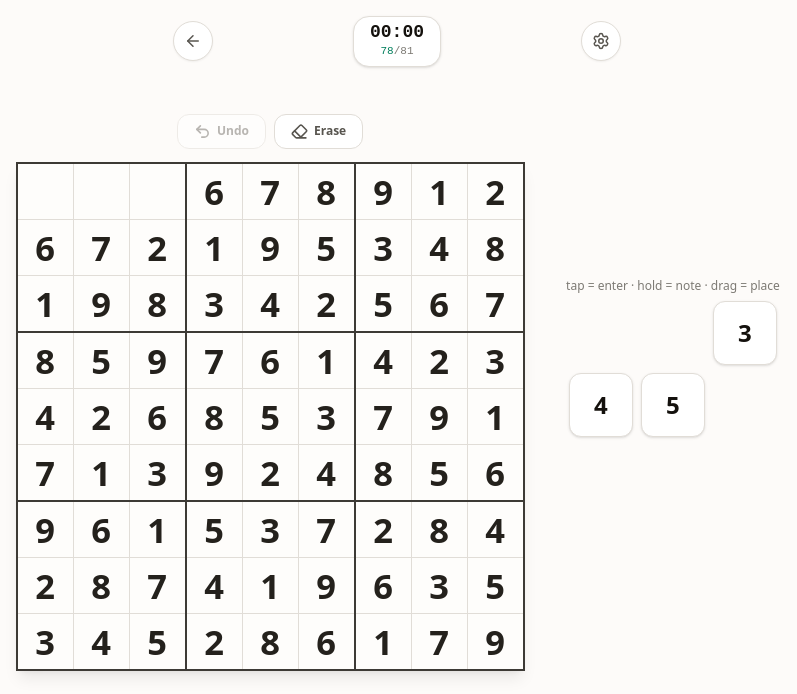
Scenario: MultiplayerBoard local autosave › enables the undo button after a move and reverts the change on click
Check: the button labelled "Undo" is disabled, box [177,114,266,149]
Click the cell named "Cell row 1 column 1, empty". click: (45, 192)
box: [18,164,73,219]
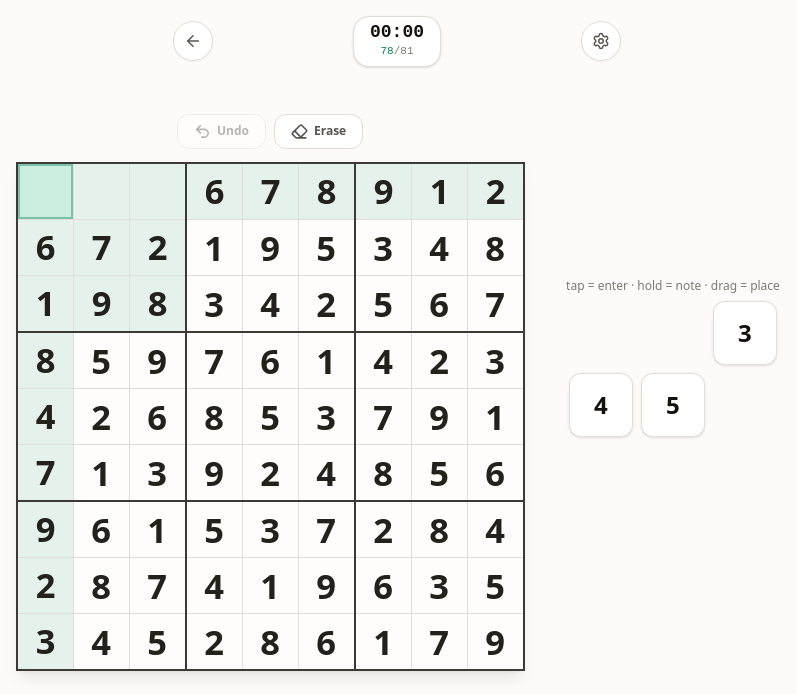
Press the mouse on the button labelled "5" at (673, 405), box [641,373,705,437]
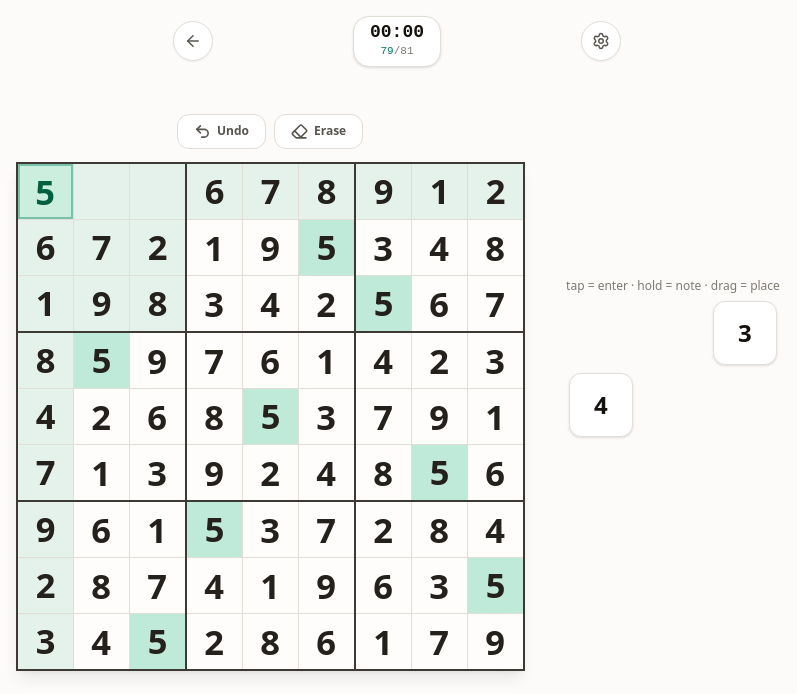
Check: the cell named "Cell row 1 column 1, value 5" is shown, box [18,164,73,219]
Check: the button labelled "Undo" is enabled
Click the button labelled "Undo". click: (222, 131)
box: [177,114,266,149]
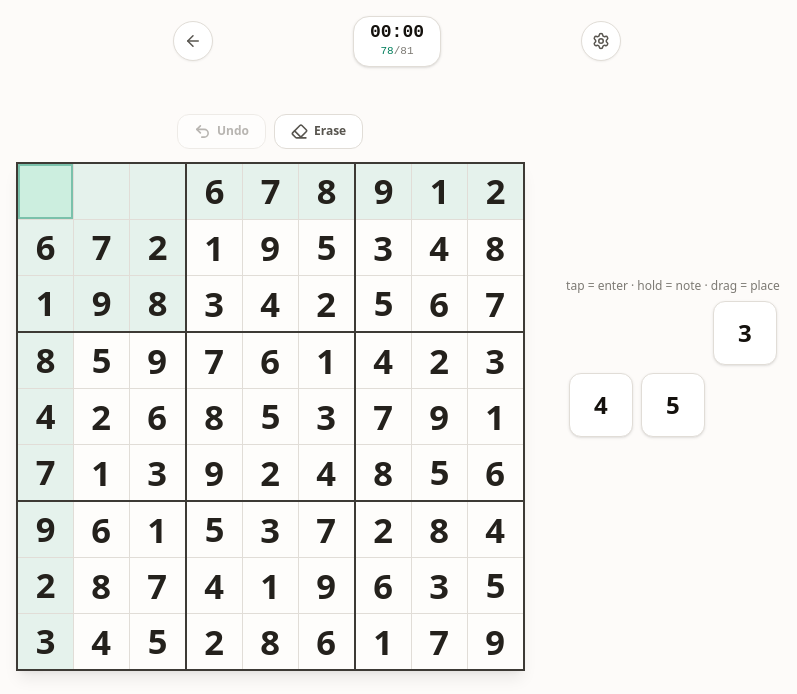
Check: the cell named "Cell row 1 column 1, empty" is shown, box [18,164,73,219]
